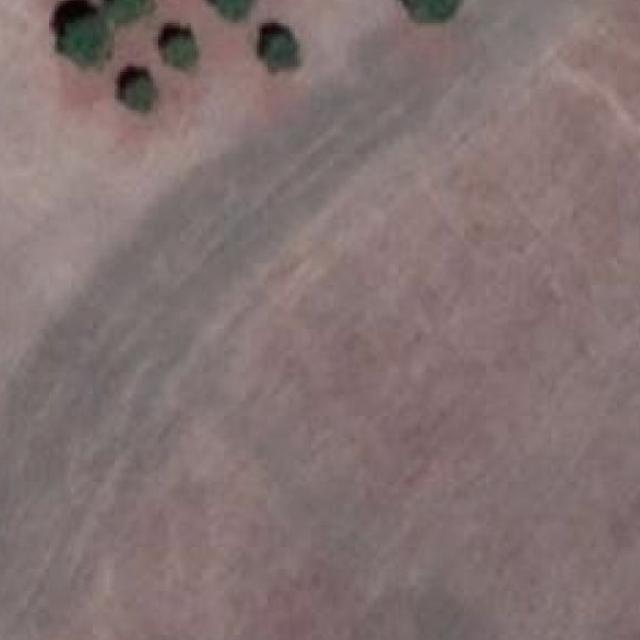Tree: (63, 21, 107, 68), (406, 0, 459, 23), (268, 34, 298, 70), (126, 78, 156, 110), (164, 39, 194, 67), (112, 0, 148, 23), (212, 0, 248, 14)
